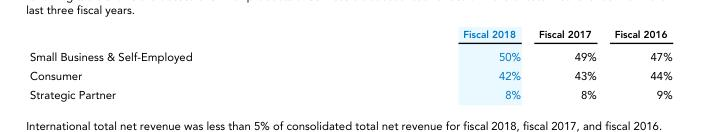table: (28, 29, 671, 101)
table column: (28, 29, 326, 101), (326, 29, 528, 101), (528, 29, 604, 101), (604, 29, 671, 101)
table column header: (28, 29, 671, 45)
table row: (28, 45, 671, 66), (28, 66, 671, 85), (28, 29, 671, 45), (28, 85, 671, 101)
